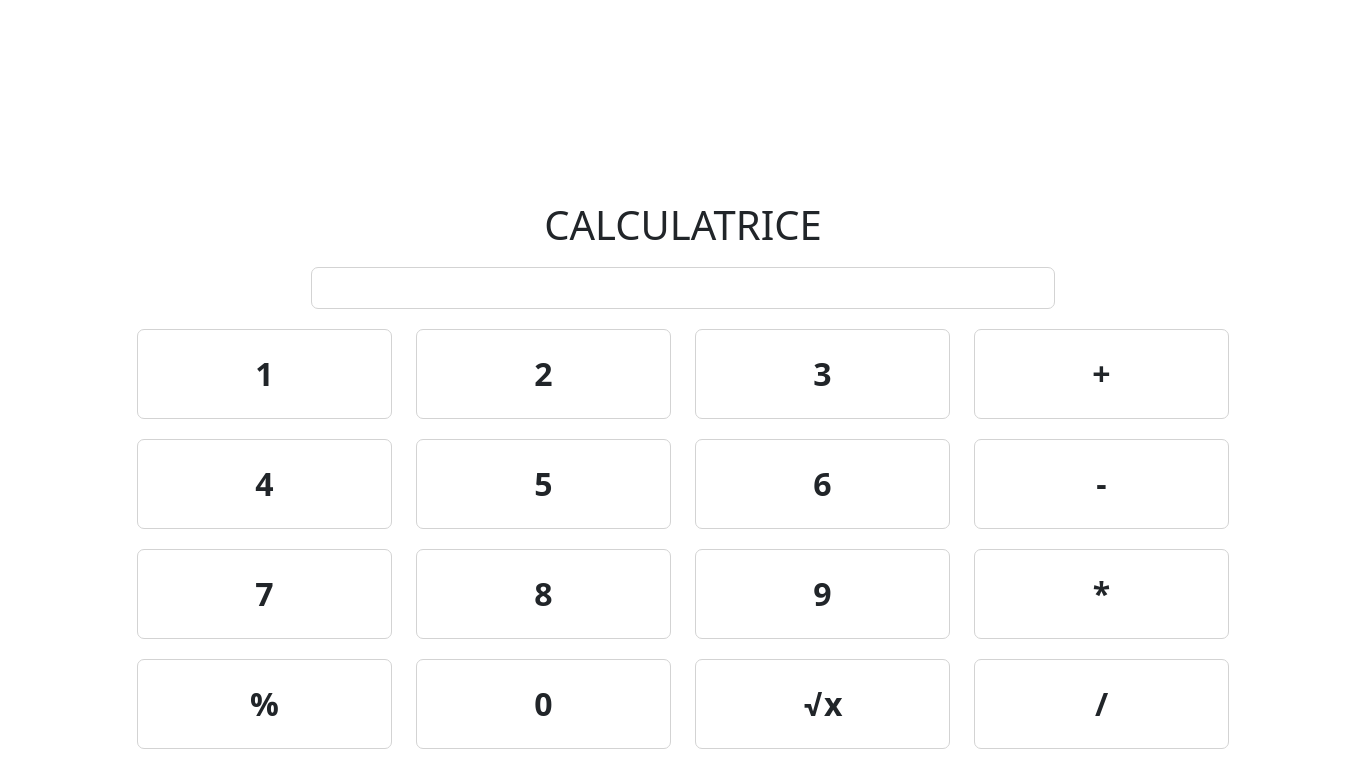
Test: calculatrice app › substraction
Step 1. Click the text with class "touch" showing "2" → (544, 374), box [416,329,671,419]
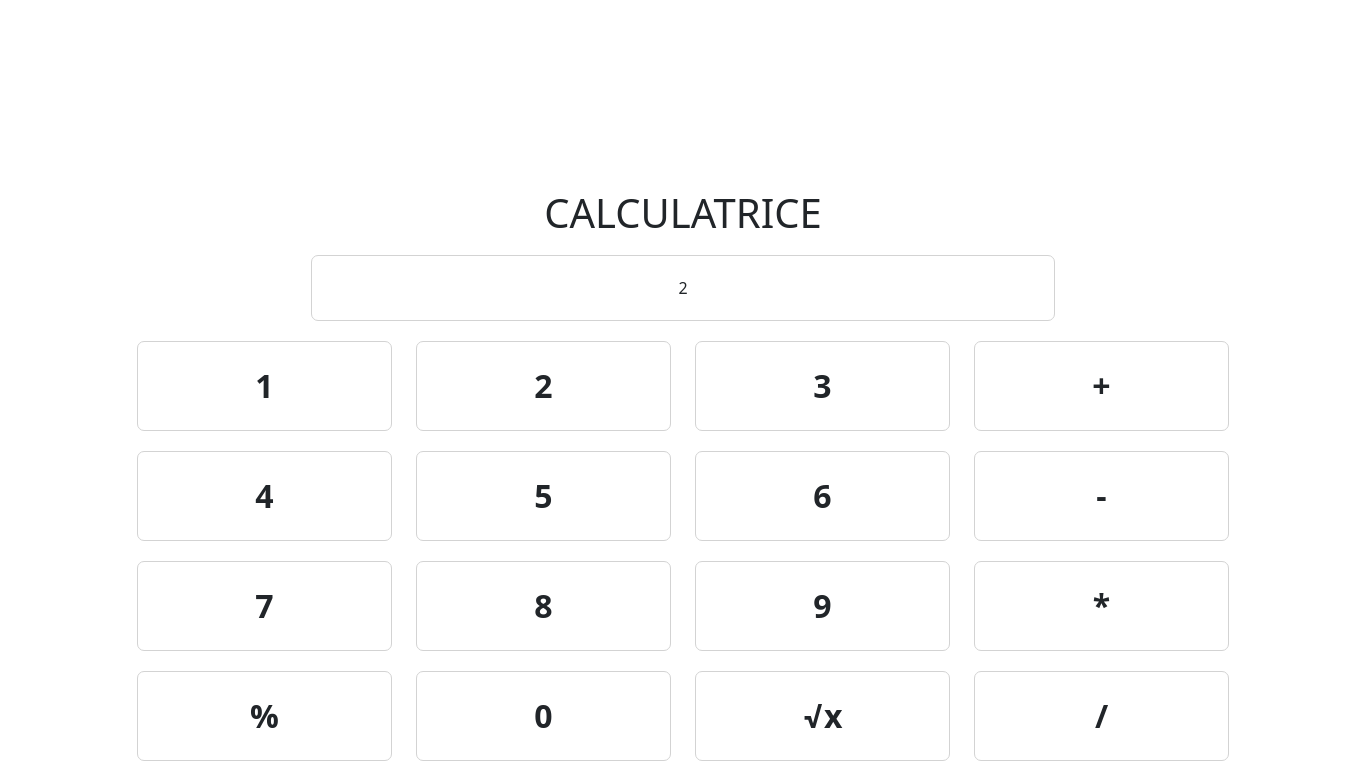
Step 2. Click the text with class "touch" showing "-" → (1102, 496), box [974,451,1229,541]
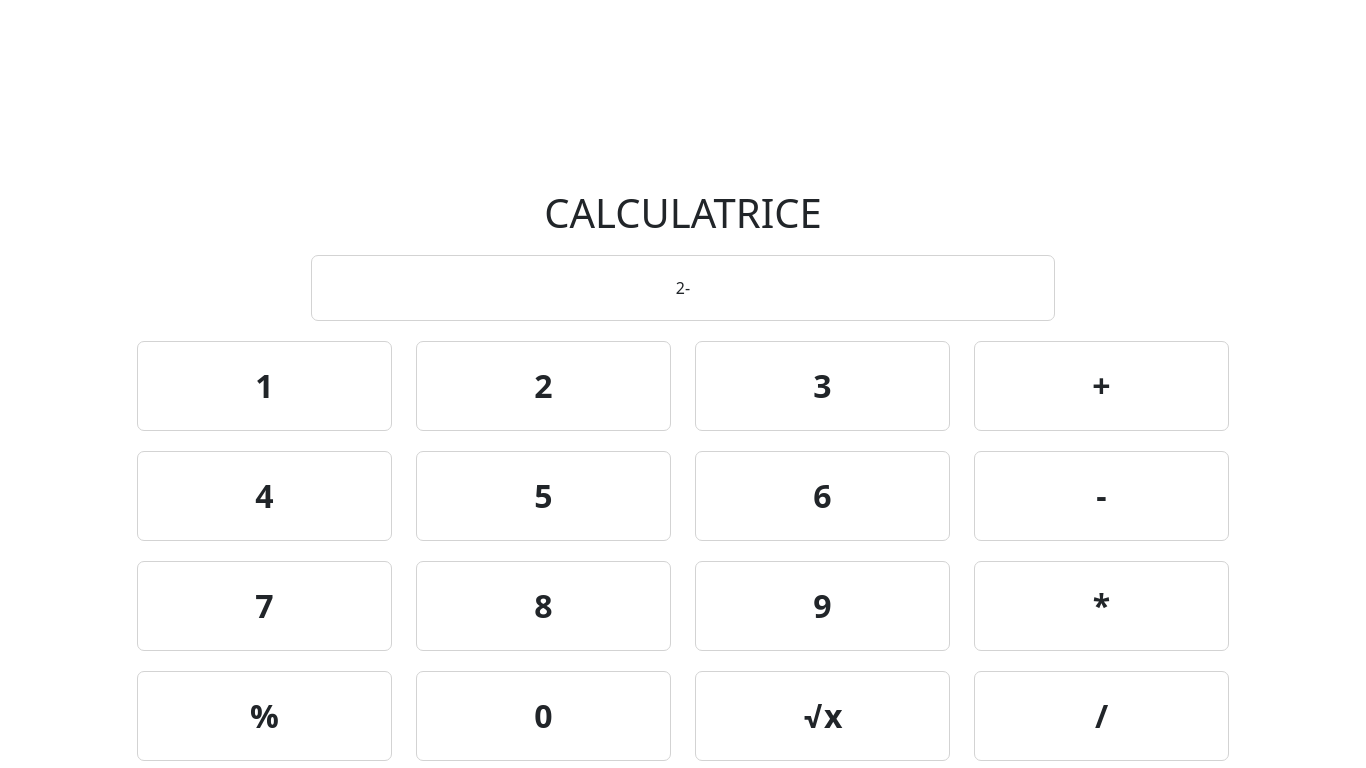
Step 3. Click the text with class "touch" showing "2" → (544, 386), box [416,341,671,431]
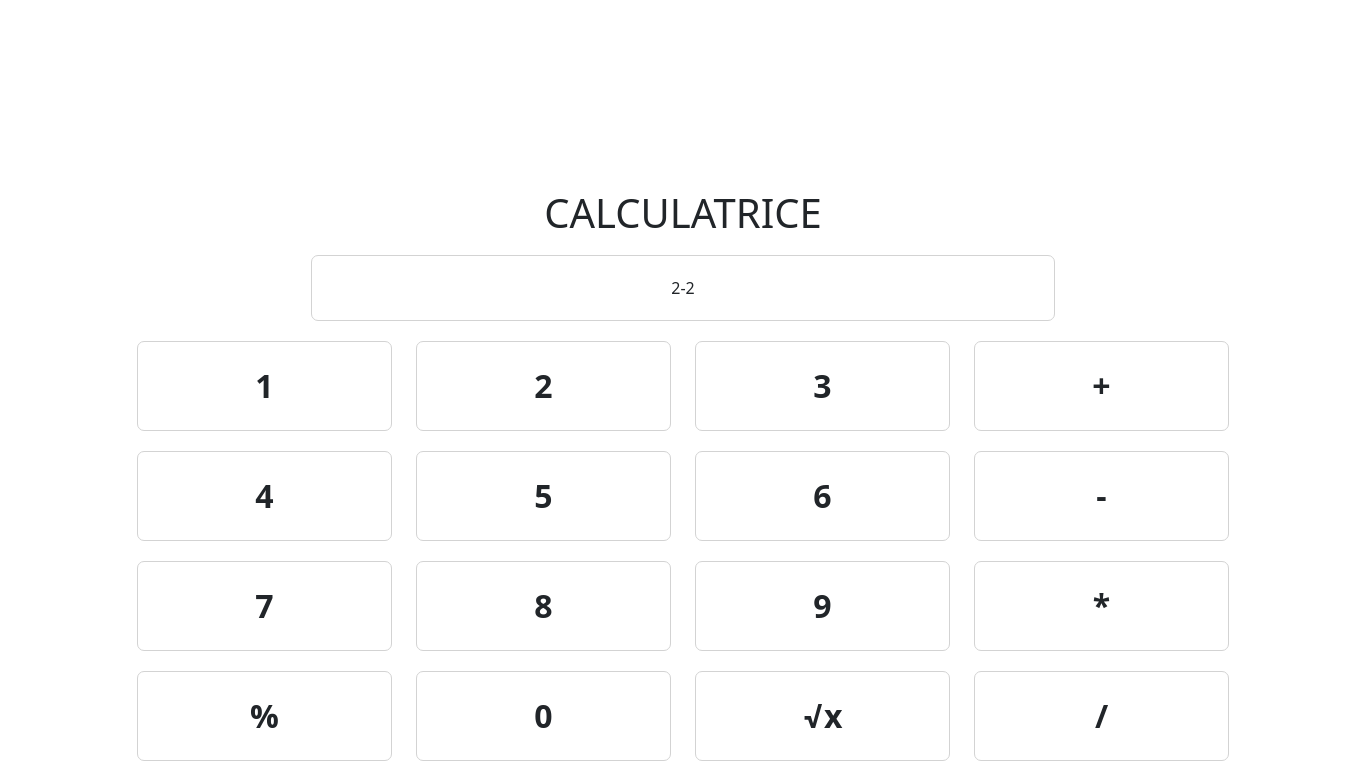
Step 4. Scroll
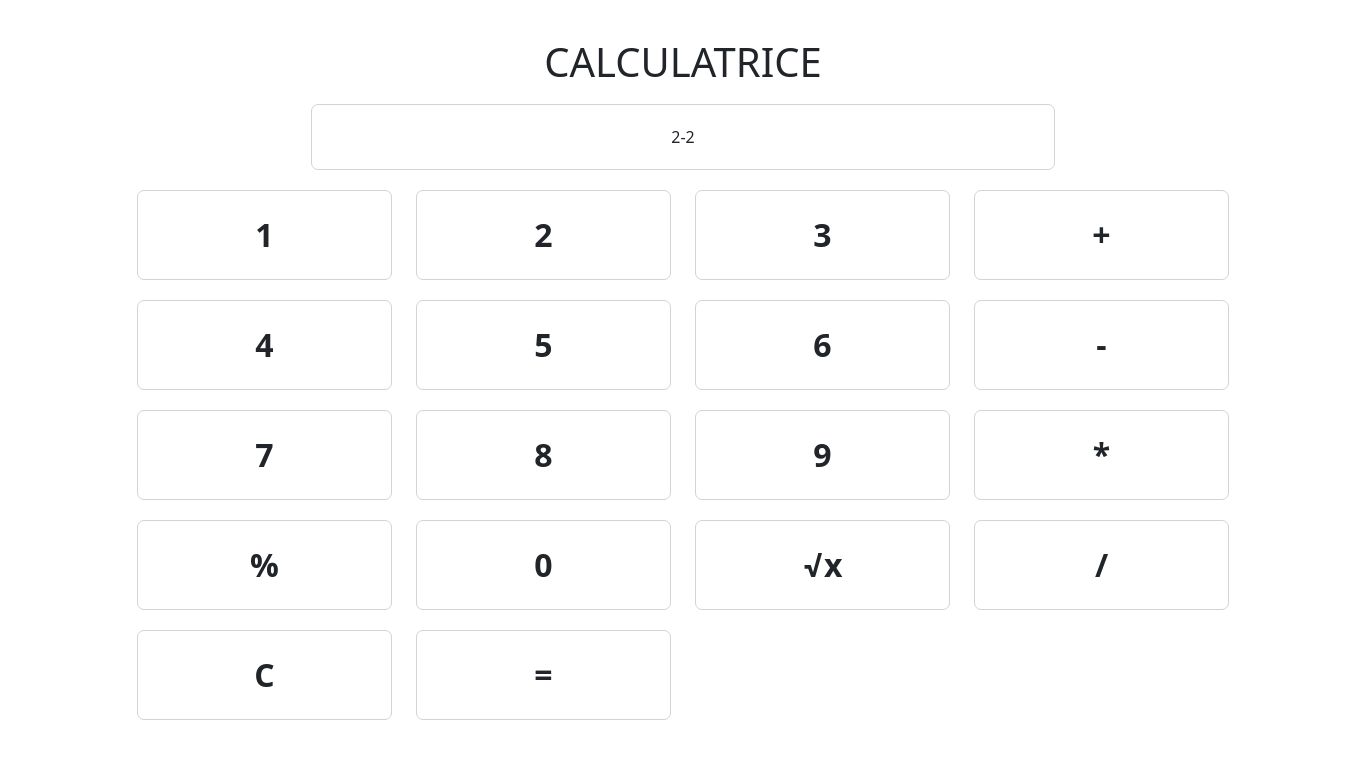
Step 5. Click the text with class "touch" showing "=" → (544, 675), box [416,630,671,720]
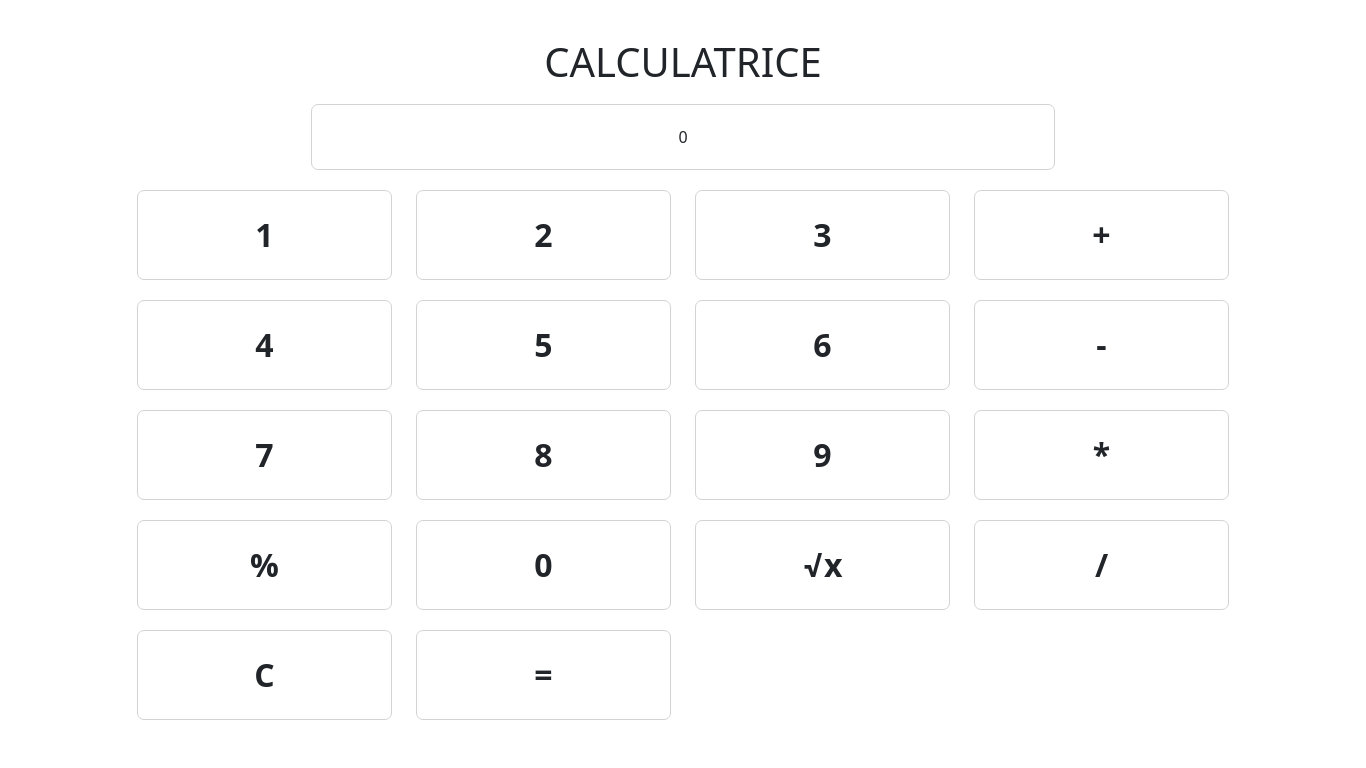
Check: the text with class "result" reads "0", box [311,104,1055,170]
